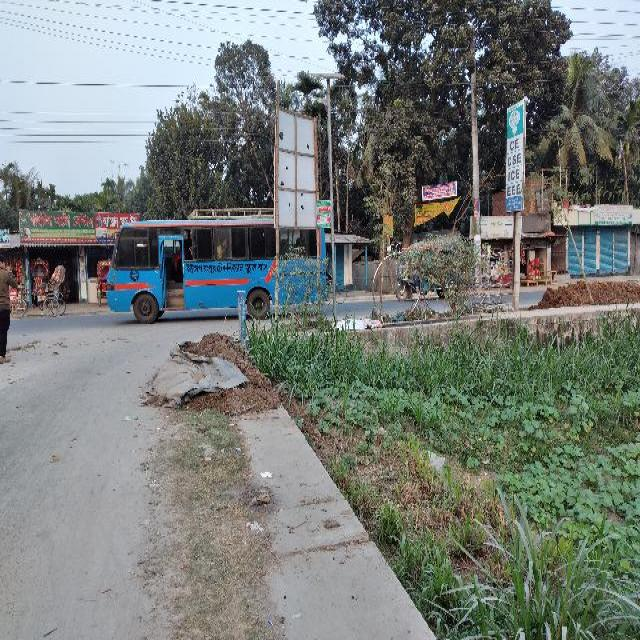vehicle: (105, 199, 337, 319), (395, 237, 470, 304), (11, 266, 67, 320), (28, 256, 51, 303), (94, 254, 110, 308)
